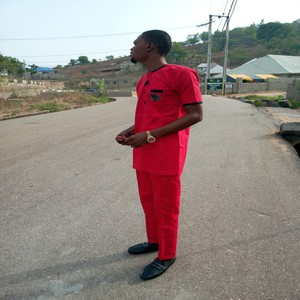Fulokoja_male_student: (121, 28, 201, 279)
